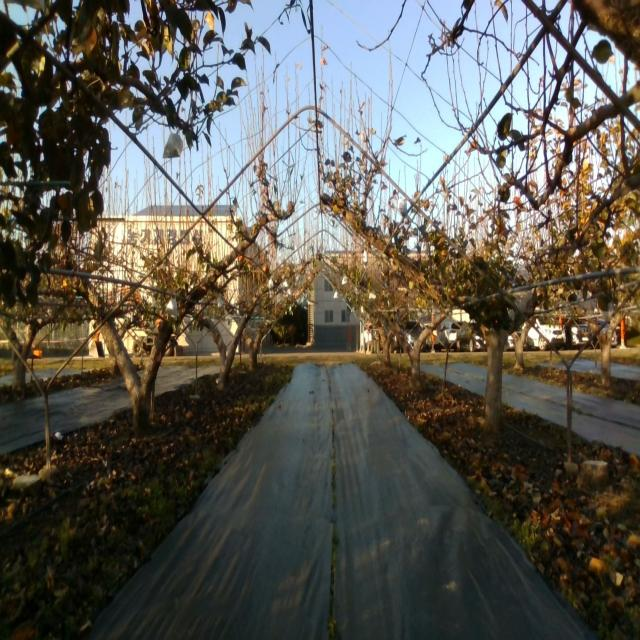pearbags: (163, 133, 183, 159), (164, 298, 178, 322), (398, 197, 408, 218)
